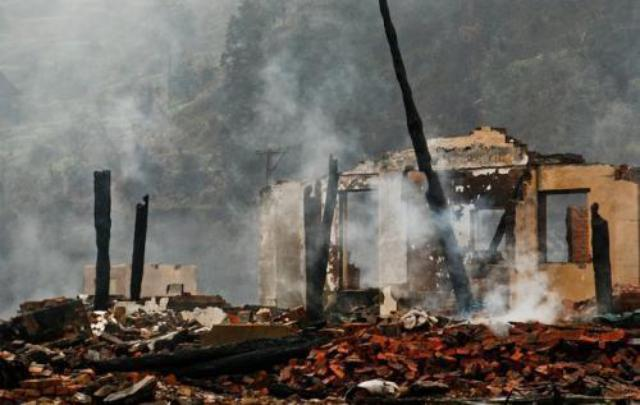smoke: (328, 147, 454, 294), (251, 25, 345, 176), (462, 200, 564, 331)
